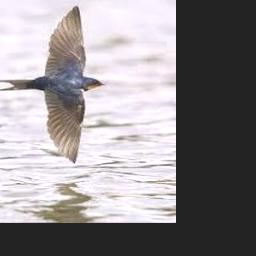Swallow: (0, 6, 105, 164)
